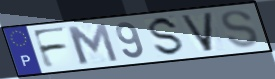9: (114, 21, 145, 60)
F: (29, 25, 70, 70)
M: (63, 21, 121, 66)
S: (220, 9, 261, 50), (148, 15, 187, 58)
V: (178, 11, 216, 53)
